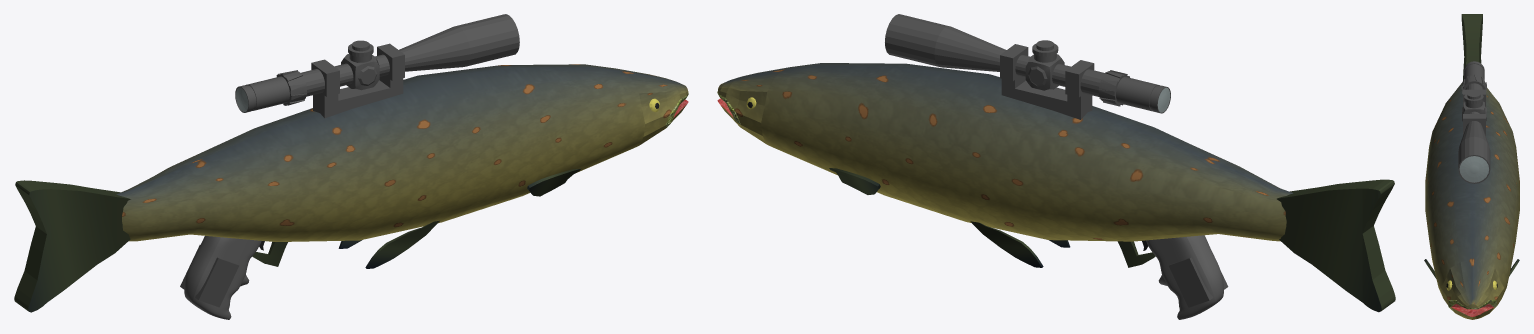
Rendered from Fiskaren1.fbx.
3 views of the same model, side by side, from view 1: azimuth 30°, elevation 25°; view 2: azimuth 150°, elevation 25°; view 3: azimuth 270°, elevation 25° (orthographic). The views are drawn at different scales.
Parts seen in each view (by area): view 1: Fisk, BakFena, Optic, pasted__Handtag1, Hållare, pasted__Handtag2, Fena1, SniperKub, Fena3, pCylinder1, Hål; view 2: Fisk, BakFena, Optic, Hållare, pasted__Handtag1, pasted__Handtah3, Fena2, SniperKub, Fena4, Hål, pCylinder1; view 3: Fisk, Optic, BakFena, Hållare, pCylinder1, SniperKub.
Boxes of the visible parts, <box> form: Fisk: <box>116,64,688,241</box>; BakFena: <box>14,180,130,312</box>; Optic: <box>235,14,519,112</box>; pasted__Handtag1: <box>184,236,261,319</box>; Hållare: <box>311,43,404,118</box>; pasted__Handtag2: <box>195,257,239,307</box>; Fena1: <box>365,220,439,268</box>; SniperKub: <box>341,54,379,90</box>; Fena3: <box>527,168,580,196</box>; pCylinder1: <box>348,40,373,62</box>; Hål: <box>252,241,287,266</box>; Fisk: <box>717,63,1292,241</box>; BakFena: <box>1277,179,1395,312</box>; Optic: <box>885,14,1170,113</box>; Hållare: <box>1000,44,1094,119</box>; pasted__Handtag1: <box>1146,235,1223,319</box>; pasted__Handtah3: <box>1168,257,1213,307</box>; Fena2: <box>970,221,1043,267</box>; SniperKub: <box>1025,54,1064,90</box>; Fena4: <box>829,168,880,194</box>; Hål: <box>1117,241,1155,267</box>; pCylinder1: <box>1032,40,1058,62</box>; Fisk: <box>1425,83,1519,319</box>; Optic: <box>1458,61,1490,183</box>; BakFena: <box>1461,14,1482,80</box>; Hållare: <box>1463,89,1485,135</box>; pCylinder1: <box>1464,91,1483,108</box>; SniperKub: <box>1462,101,1486,121</box>.
Bounding box in the file's own units: 11.61 × 3.95 × 1.91.
10 materials, 4 textured.
